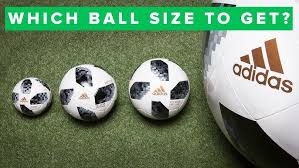football ball: (201, 3, 299, 168), (128, 57, 193, 124), (59, 63, 119, 124), (11, 78, 55, 118)
